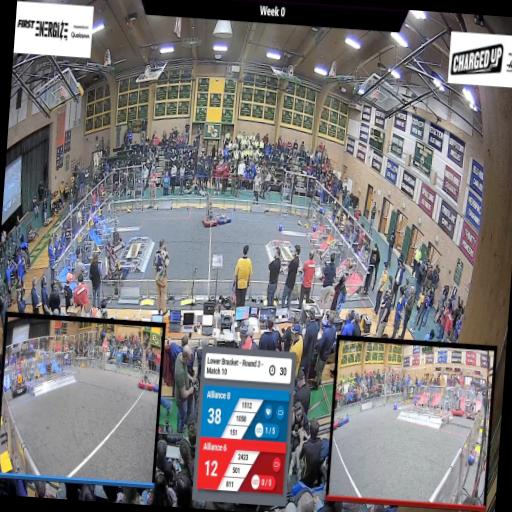robot: (99, 246, 128, 287), (312, 244, 336, 284), (104, 219, 128, 257), (326, 272, 346, 304), (201, 198, 220, 231), (214, 202, 232, 228)
